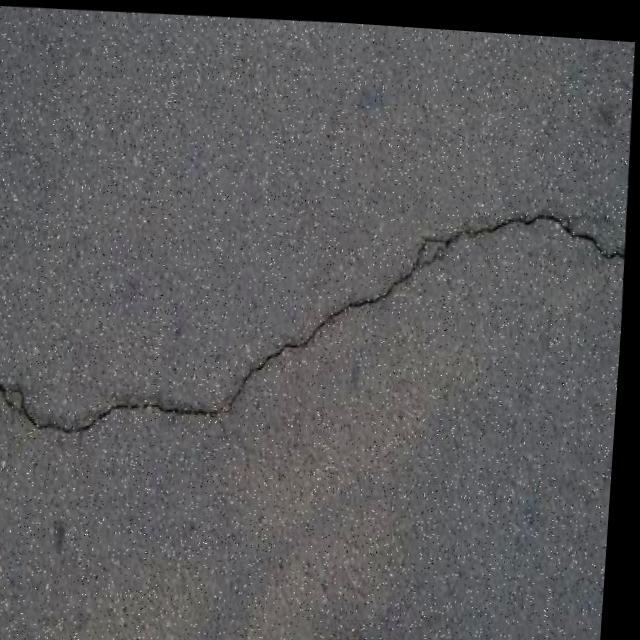Crack: (0, 162, 632, 469)
